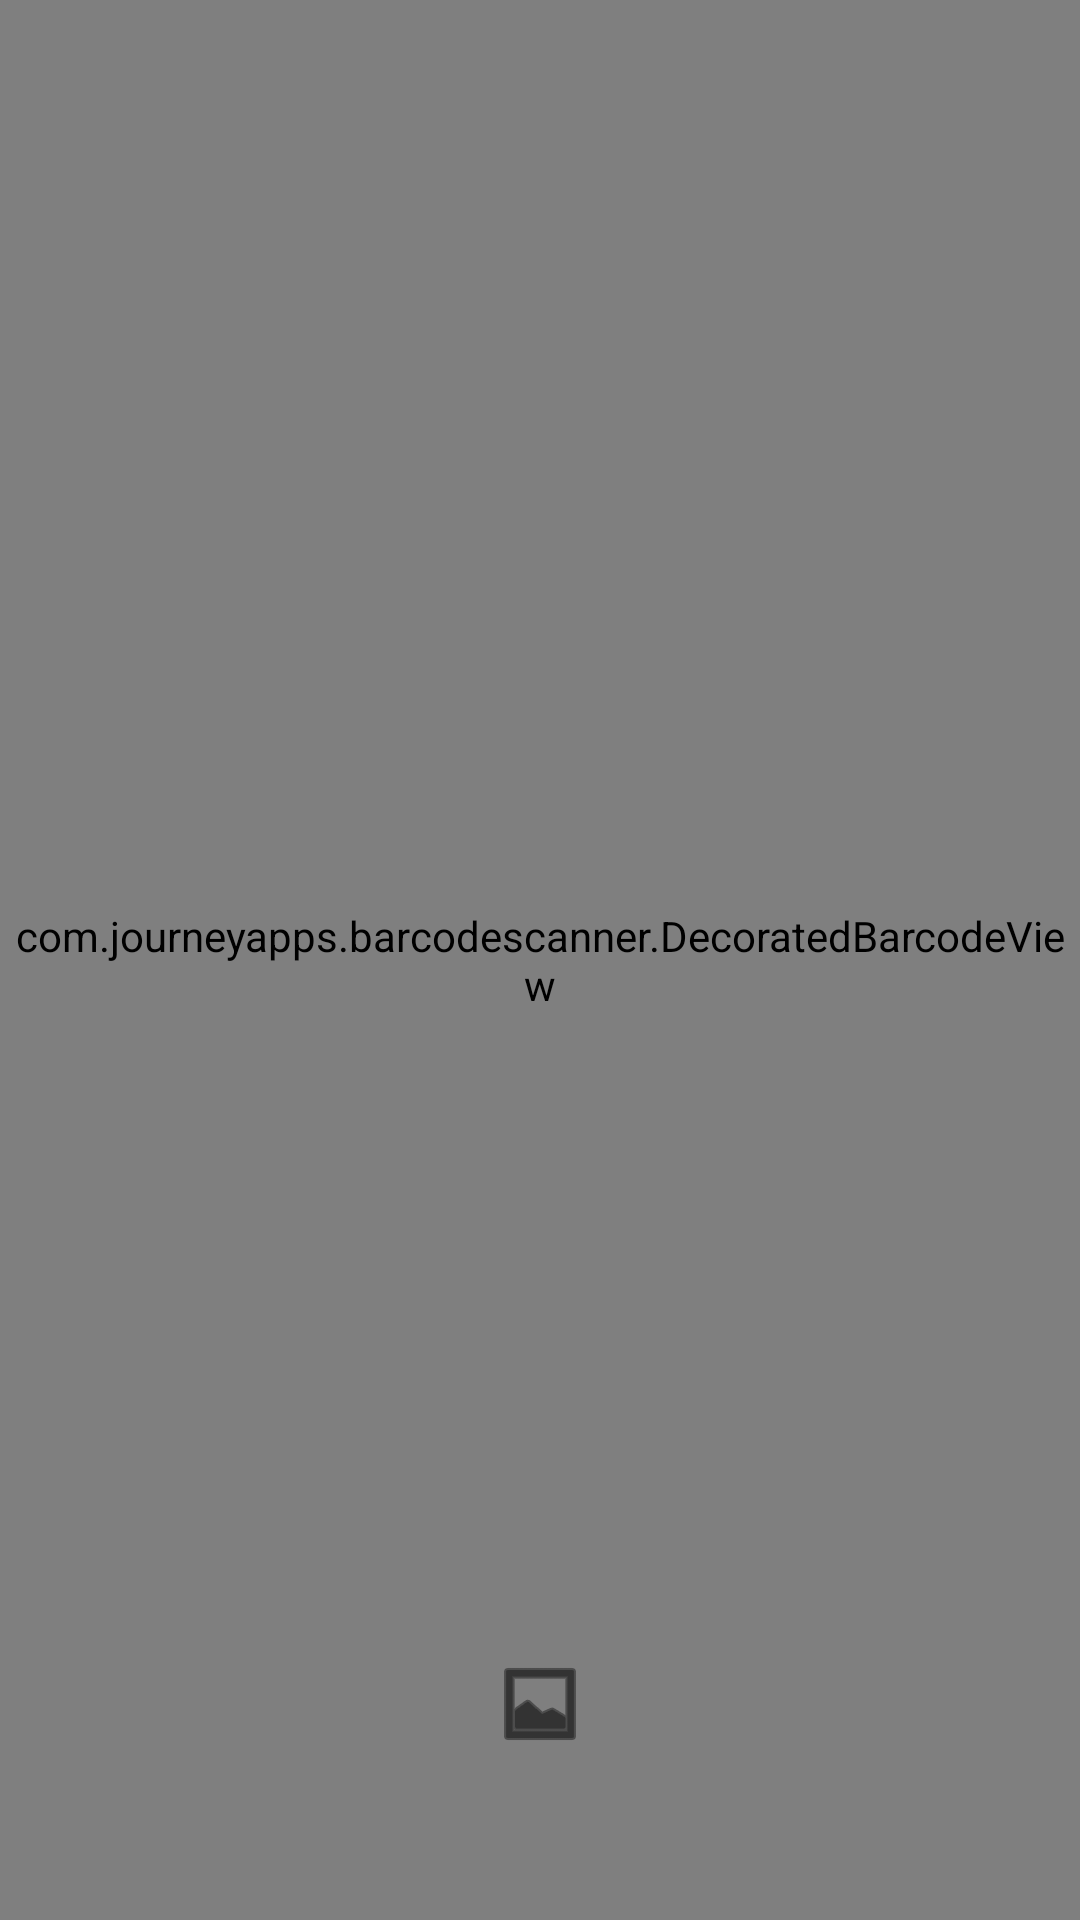

Icon bounding boxes for this 1080 x 1920 phone screenshot, format (x1, y1, x2, y2):
Tria imatge: (504, 1668, 576, 1740)
